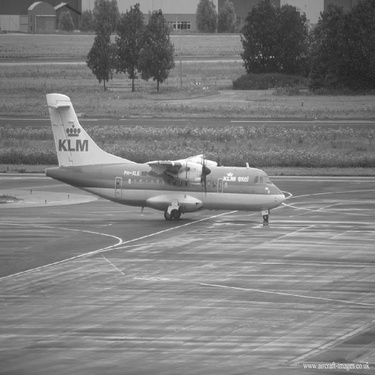airplane: (29, 68, 305, 234)
